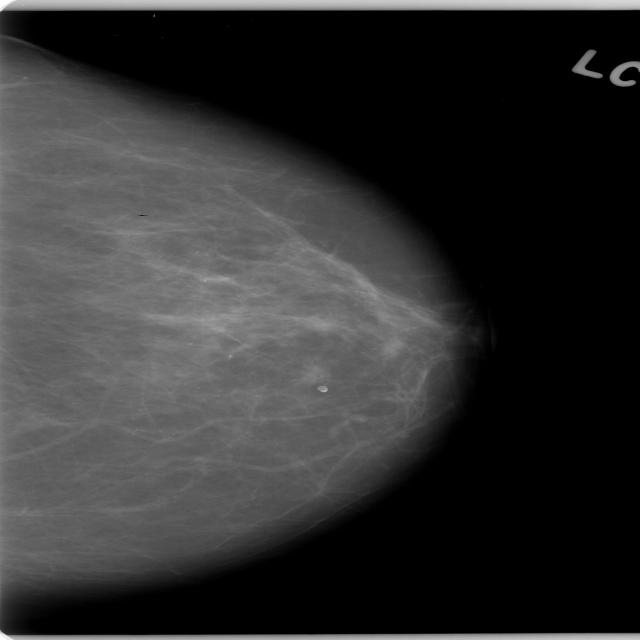normal: (0, 37, 480, 600)
